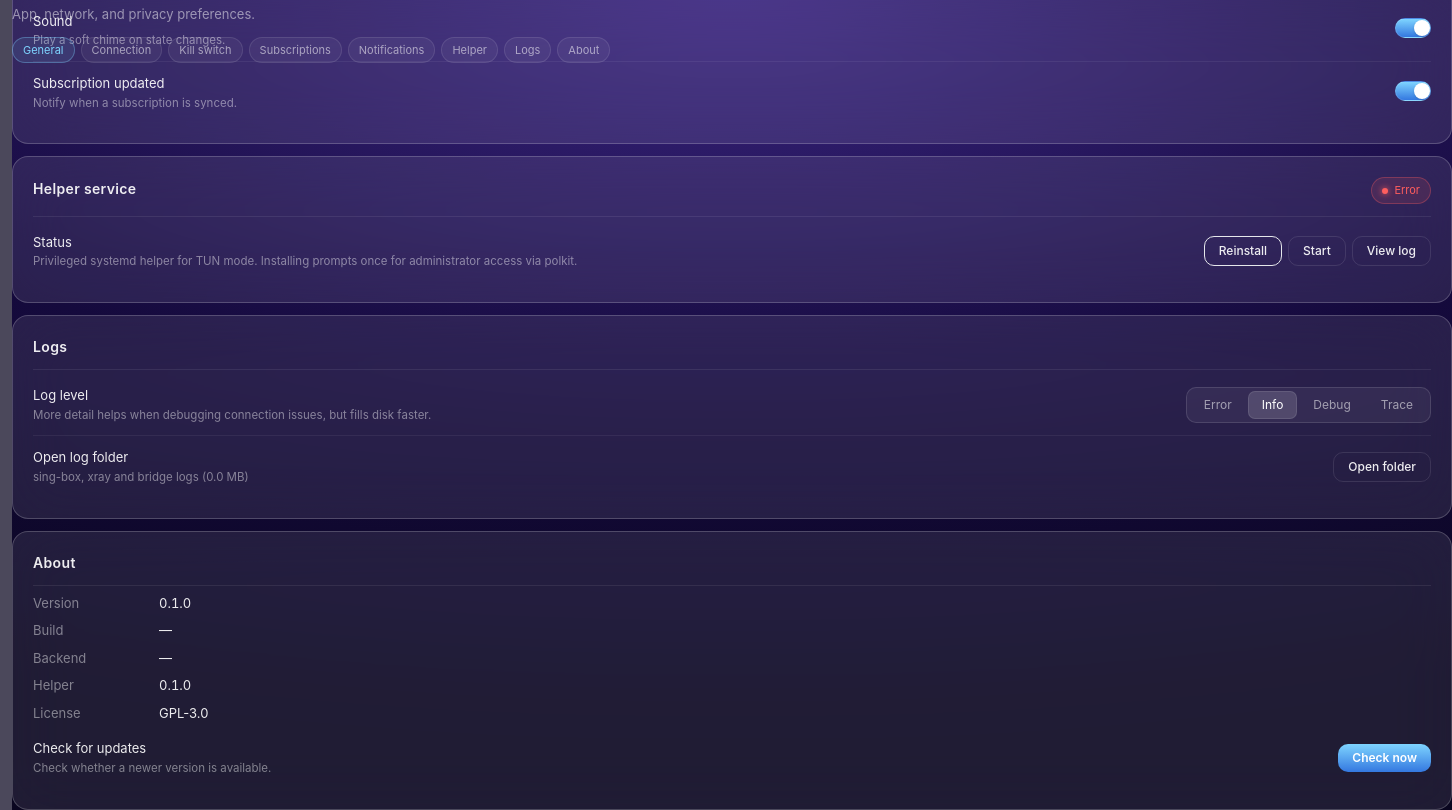
it: Settings — Update check › checkNow -> available shows the new version and a Download button
(page scrolled)
Click the button "Check now". click: click(1385, 758)
box: top-left (1338, 744), bottom-right (1431, 772)
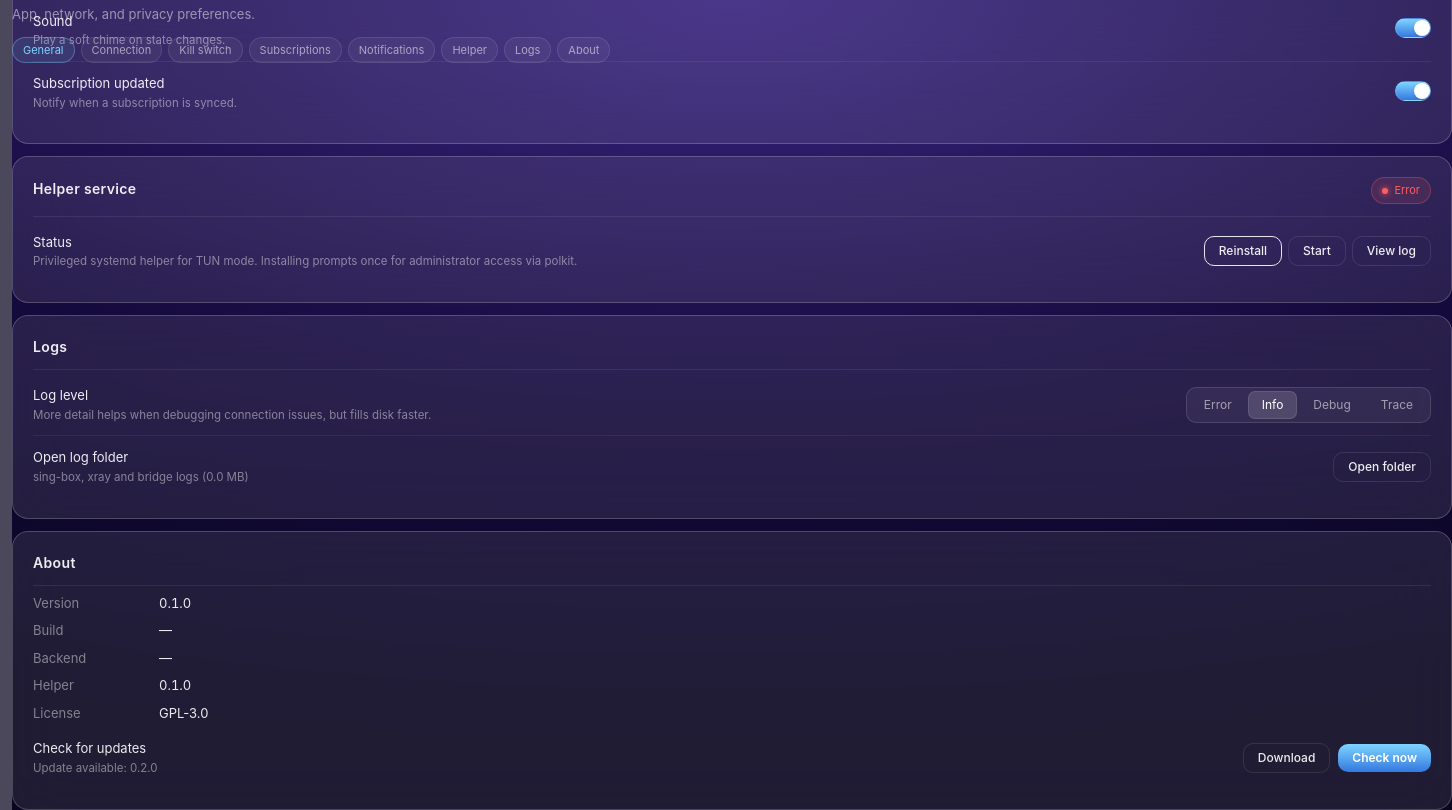
Expected: the text "Update available: 0.2.0" is shown, top-left (33, 761), bottom-right (158, 777)
Expected: the button "Download" is shown, top-left (1243, 743), bottom-right (1330, 773)
